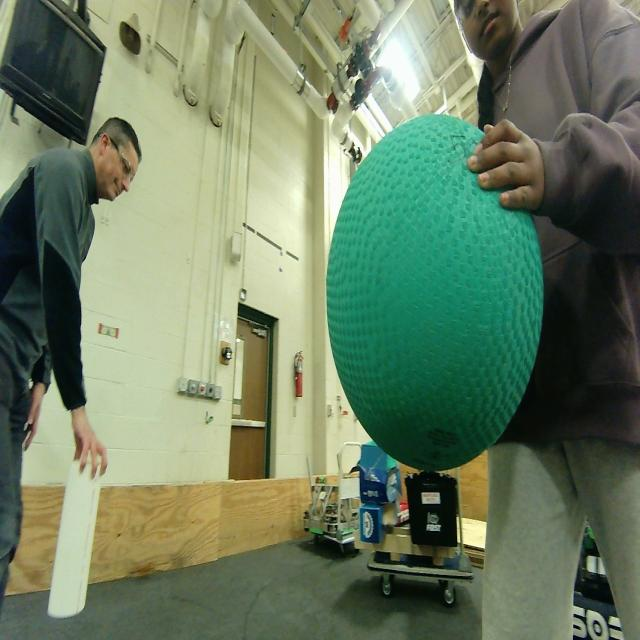algae: (324, 110, 545, 468)
coral: (49, 446, 100, 615)
